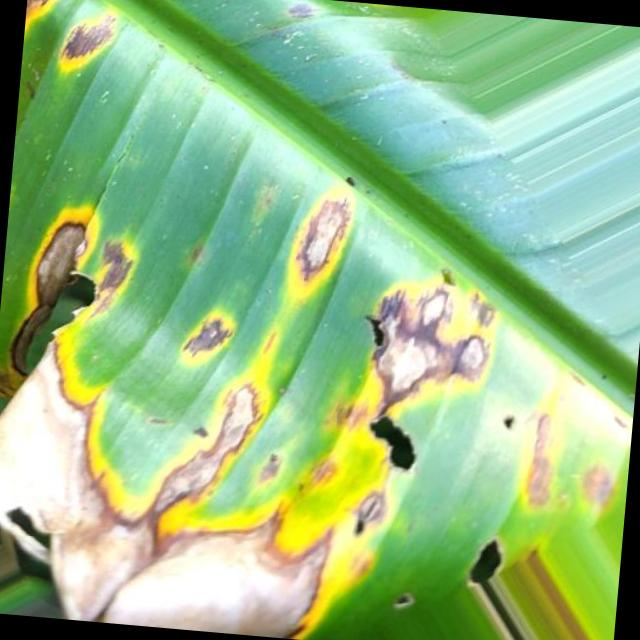Banana_Black_Sigatoka: (146, 164, 586, 640), (0, 159, 148, 563)
